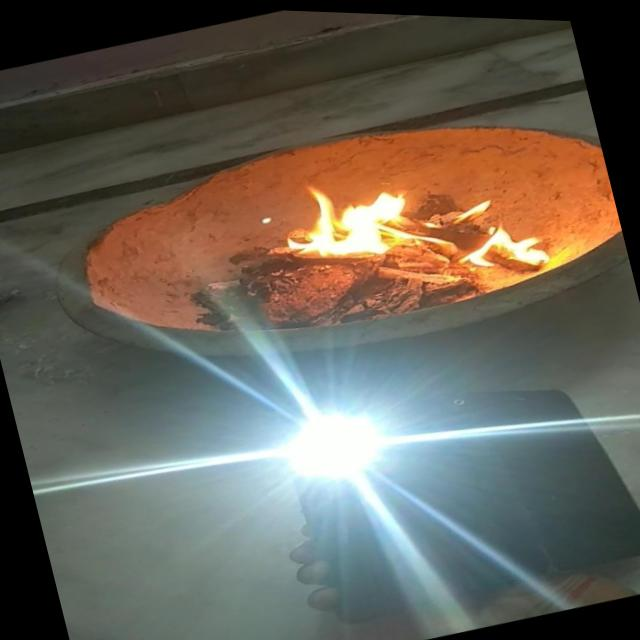fire: (263, 153, 424, 279), (446, 178, 564, 283)
